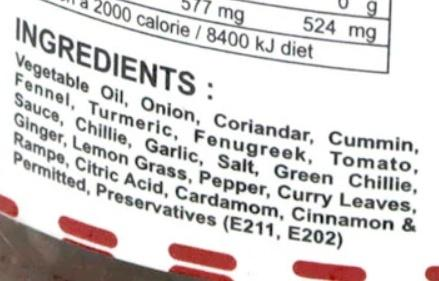ingredients: (10, 10, 425, 257)
